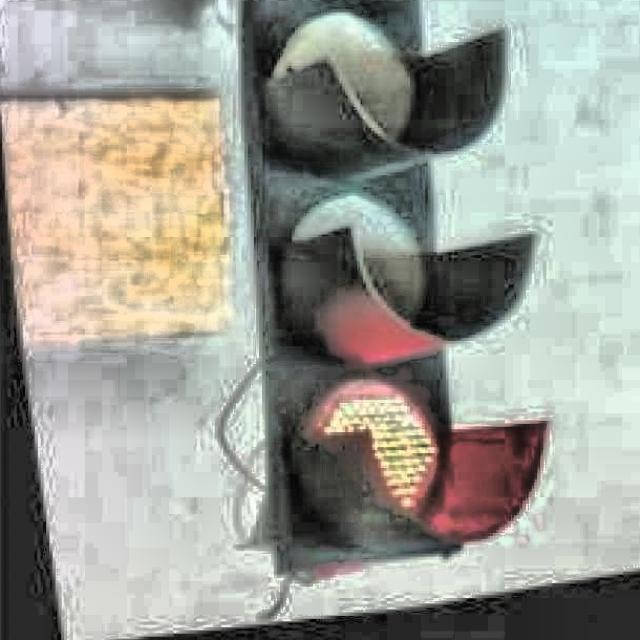red: (248, 0, 514, 541)
